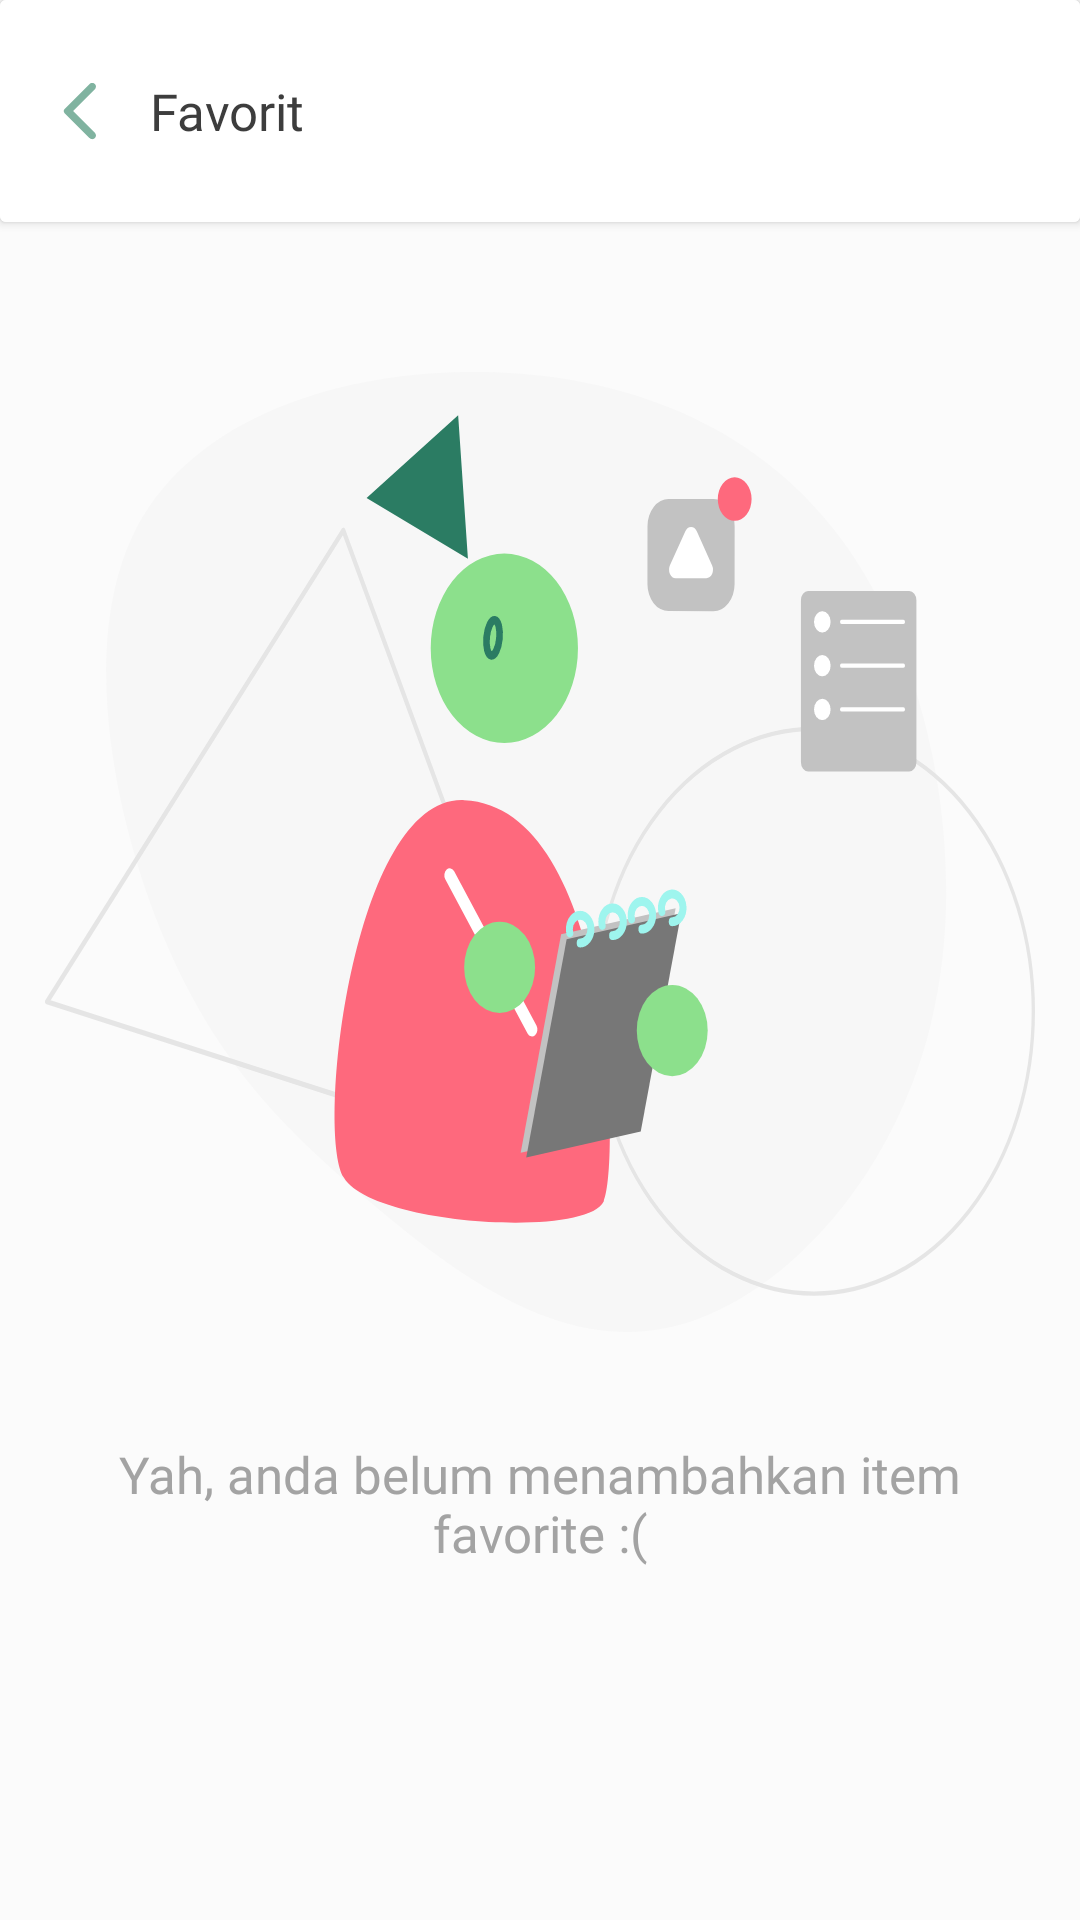

Locate icon controls on the screen. Image size 1080 × 1920, boxes as box=[x1, y1, x2, y2].
arrow back: box=[64, 83, 96, 139]
